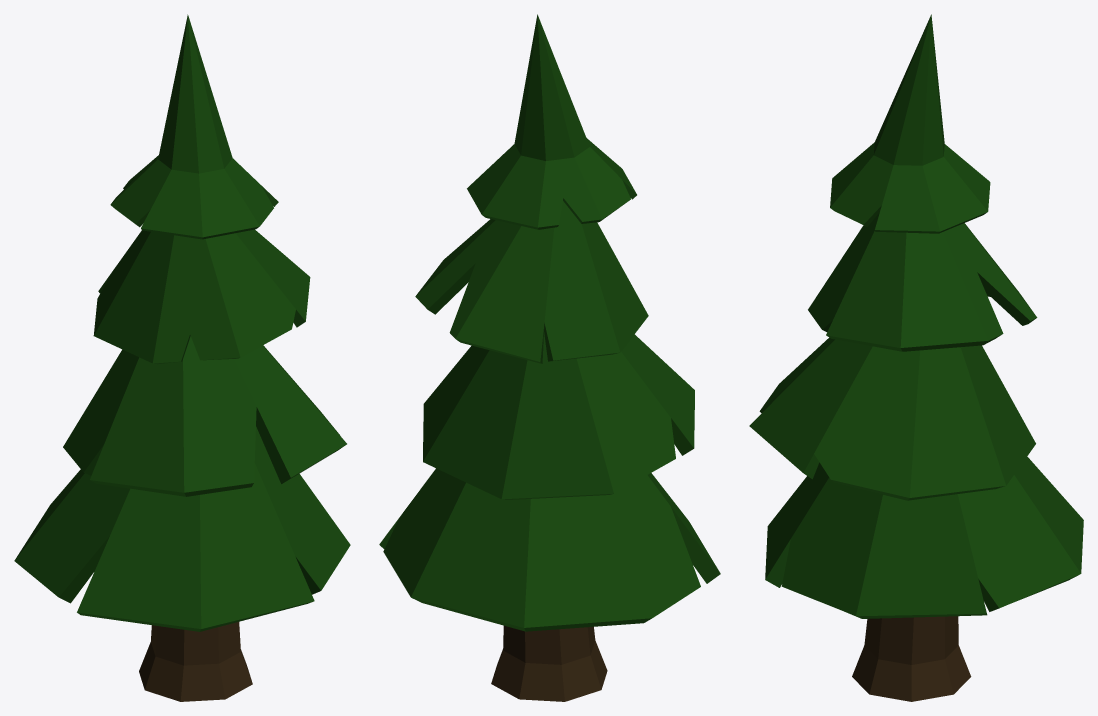
The model's file is pine.glb.
The picture shows the model from 3 angles, left to right: view 1: azimuth 30°, elevation 25°; view 2: azimuth 150°, elevation 25°; view 3: azimuth 270°, elevation 25°; orthographic projection. The views are drawn at different scales.
Parts seen in each view (by area): view 1: Cylinder.004; view 2: Cylinder.004; view 3: Cylinder.004.
Boxes of the visible parts, left/top/right/bottom form: Cylinder.004: left=14, top=14, right=350, bottom=701; Cylinder.004: left=379, top=14, right=720, bottom=701; Cylinder.004: left=749, top=14, right=1083, bottom=701.
Bounding box in the file's own units: 0.6498 × 1.49 × 0.6823.
